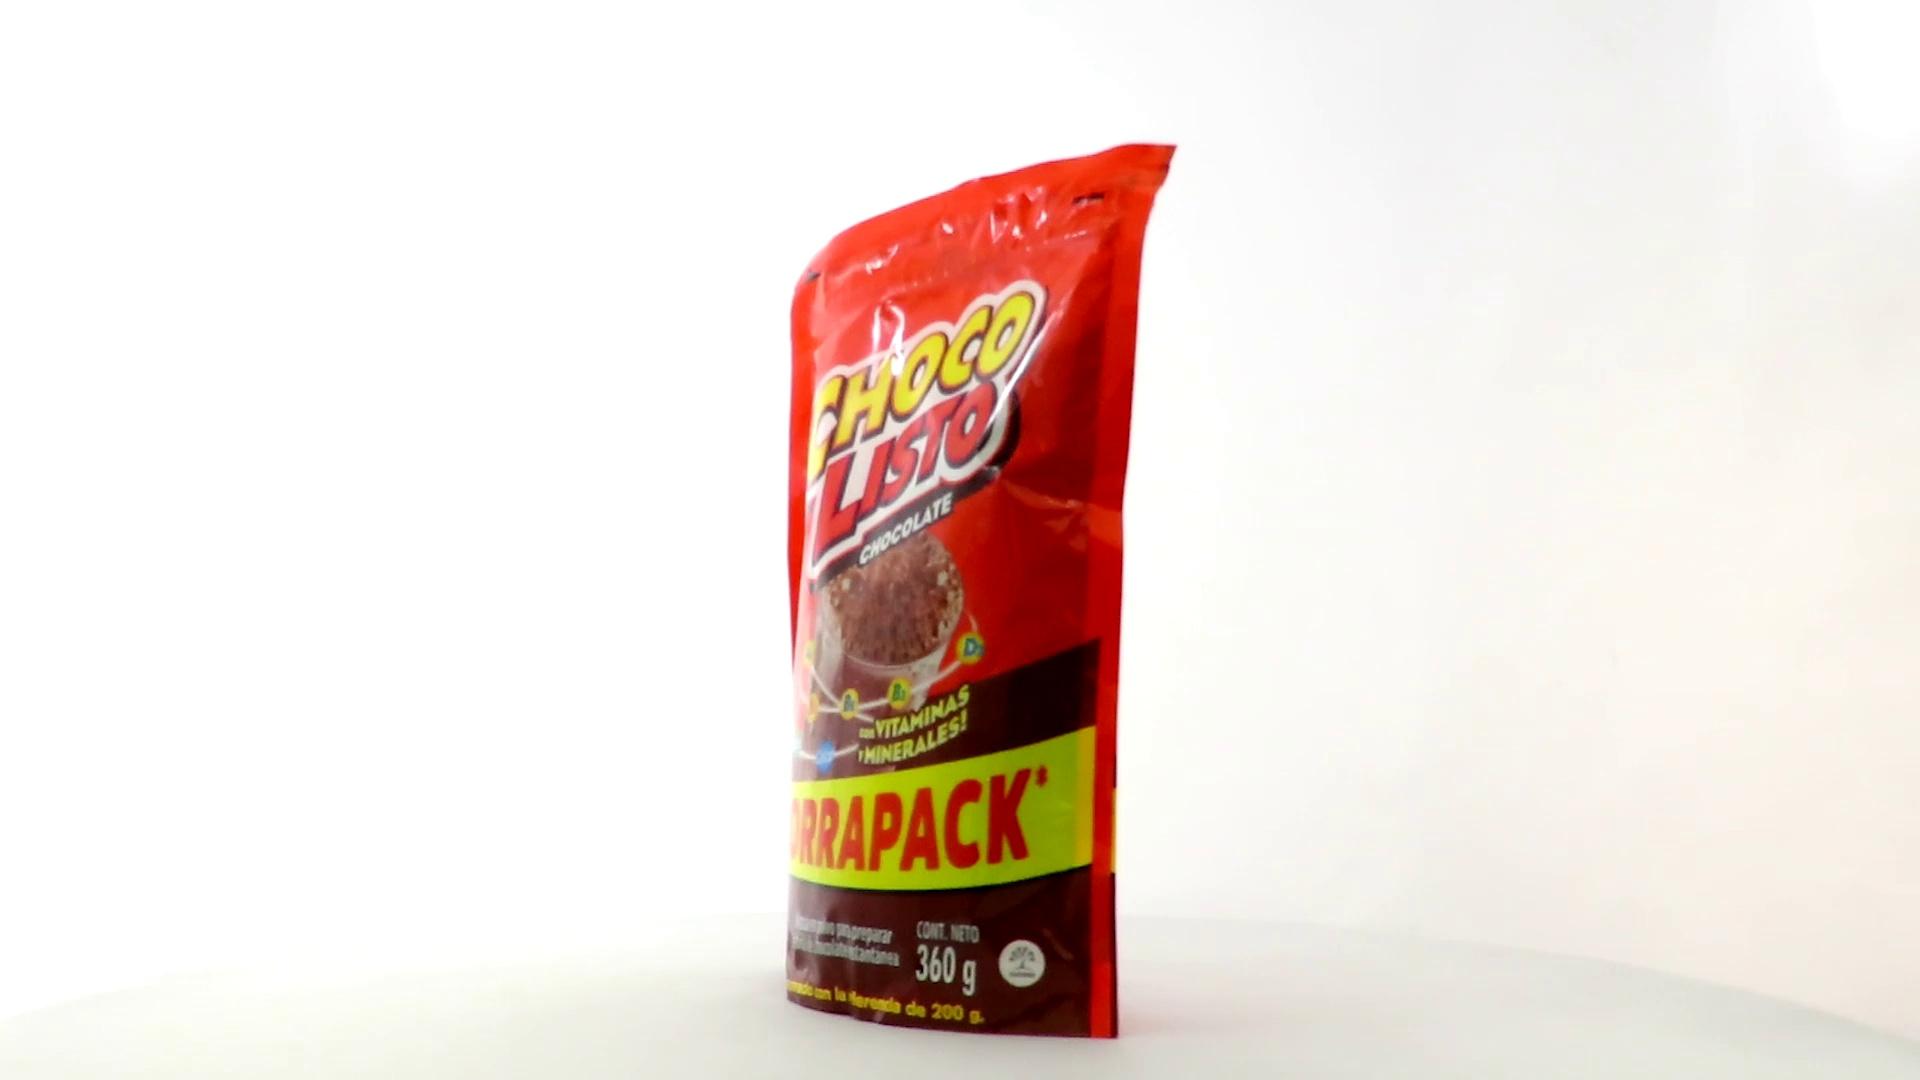COL0170103DYP36000: (781, 138, 1183, 1044)
